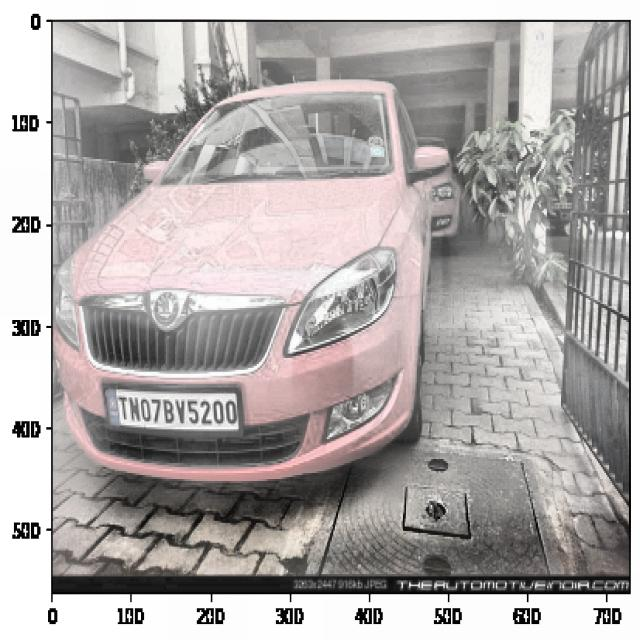license_plate: (111, 388, 242, 435)
